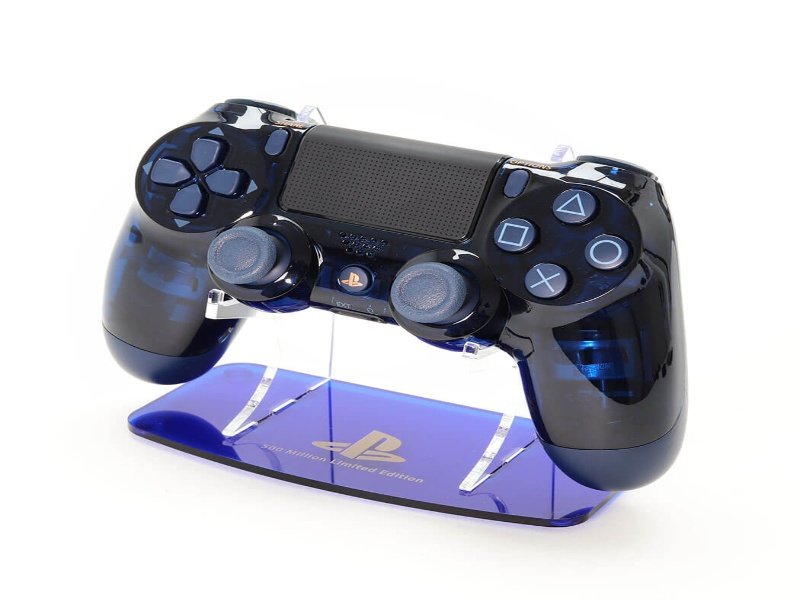ps4 joystick: (94, 92, 689, 496)
